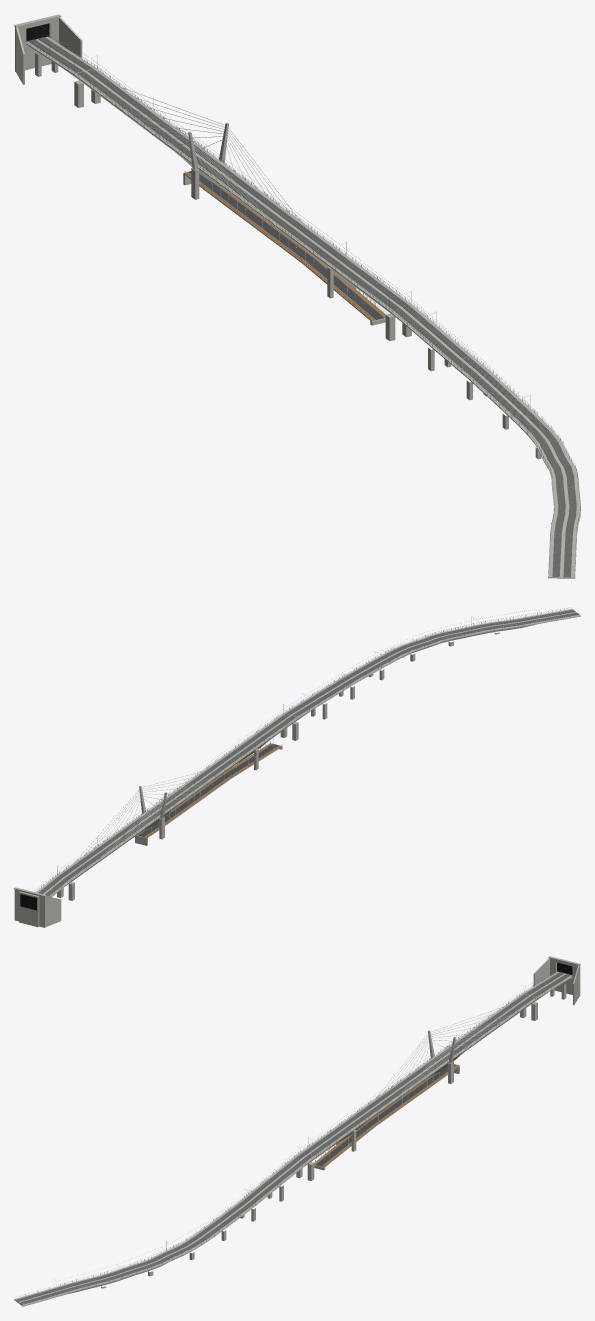
The model's file is tawatina-bridge-near.glb.
3 views of the same model, one above another, from view 1: azimuth 30°, elevation 25°; view 2: azimuth 150°, elevation 25°; view 3: azimuth 330°, elevation 25° (orthographic). The views are drawn at different scales.
Parts seen in each view (by area): view 1: tawatina-bridge-0-concrete, tawatina-bridge-0-track, tawatina-bridge-0-rail, tawatina-bridge-0-steel, tawatina-bridge-0-asphalt, tawatina-bridge-0-timber; view 2: tawatina-bridge-0-concrete, tawatina-bridge-0-track, tawatina-bridge-0-rail, tawatina-bridge-0-steel, tawatina-bridge-0-asphalt, tawatina-bridge-0-timber; view 3: tawatina-bridge-0-concrete, tawatina-bridge-0-track, tawatina-bridge-0-rail, tawatina-bridge-0-steel, tawatina-bridge-0-asphalt, tawatina-bridge-0-timber.
Boxes of the visible parts, x1,y1,x2,y2 form: tawatina-bridge-0-concrete: [14, 14, 580, 578]; tawatina-bridge-0-track: [28, 37, 576, 577]; tawatina-bridge-0-rail: [28, 27, 580, 576]; tawatina-bridge-0-steel: [49, 42, 579, 543]; tawatina-bridge-0-asphalt: [188, 171, 383, 319]; tawatina-bridge-0-timber: [184, 172, 385, 320]; tawatina-bridge-0-concrete: [14, 609, 580, 927]; tawatina-bridge-0-track: [38, 609, 579, 896]; tawatina-bridge-0-rail: [36, 607, 580, 896]; tawatina-bridge-0-steel: [46, 611, 540, 893]; tawatina-bridge-0-asphalt: [138, 744, 278, 836]; tawatina-bridge-0-timber: [137, 743, 281, 837]; tawatina-bridge-0-concrete: [14, 956, 580, 1306]; tawatina-bridge-0-track: [16, 972, 570, 1304]; tawatina-bridge-0-rail: [18, 968, 571, 1303]; tawatina-bridge-0-steel: [54, 965, 568, 1280]; tawatina-bridge-0-asphalt: [316, 1064, 455, 1166]; tawatina-bridge-0-timber: [314, 1064, 458, 1166].
Bounding box in the file's own units: 80.1 × 30.01 × 538.
